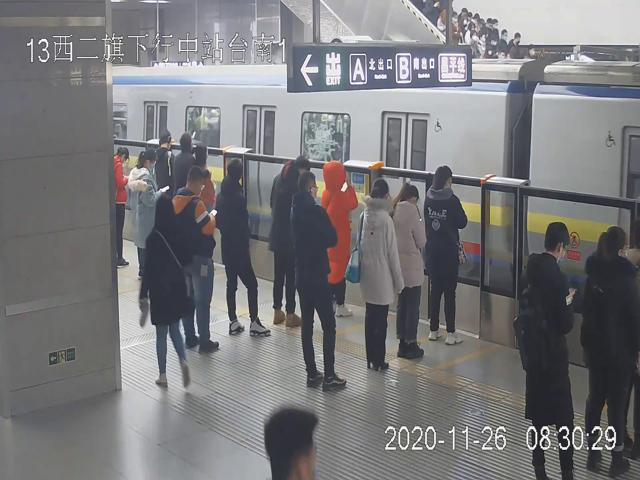person: (518, 220, 577, 480), (582, 226, 639, 480), (291, 172, 347, 388), (144, 196, 195, 389), (216, 158, 269, 337), (173, 166, 220, 351), (357, 178, 402, 368), (424, 164, 468, 341), (394, 183, 426, 360), (322, 159, 357, 317), (272, 162, 300, 329), (128, 148, 162, 278)
